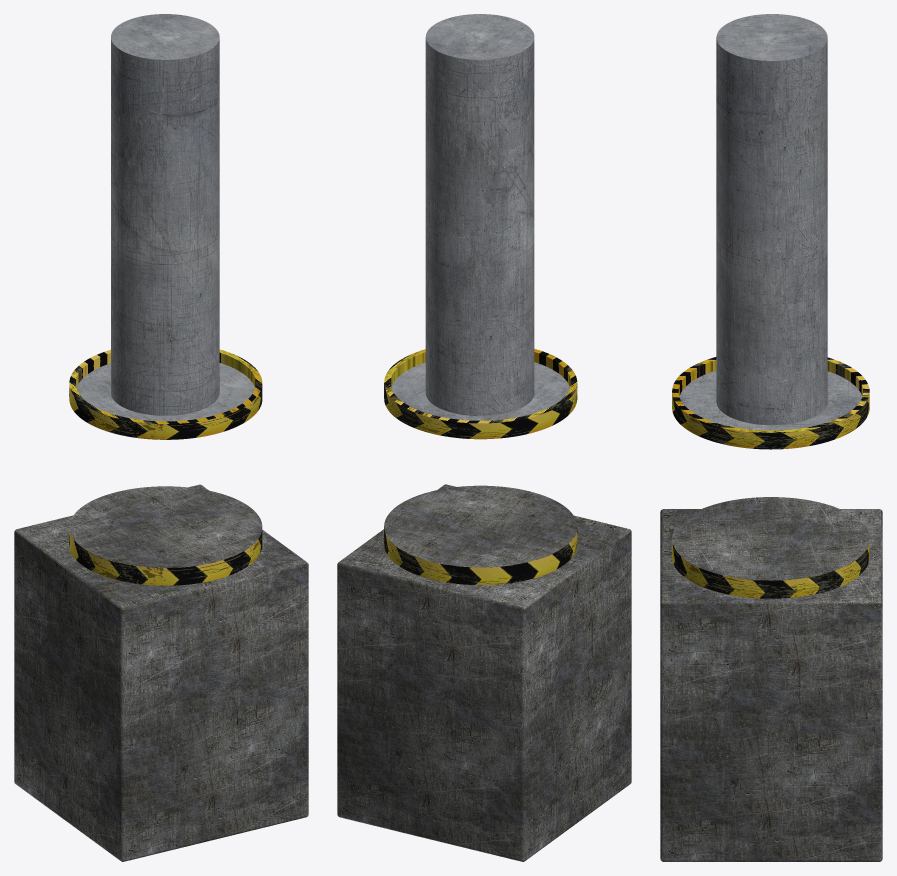
The model's file is simple_hydraulic_press.glb.
3 views of the same model, side by side, from view 1: azimuth 30°, elevation 25°; view 2: azimuth 150°, elevation 25°; view 3: azimuth 270°, elevation 25° (orthographic). The views are drawn at different scales.
Visible parts, largest first — view 1: Cube, Cylinder_2_2, Cylinder_1, Cylinder_1_2, Cylinder, Cylinder_2; view 2: Cube, Cylinder_2_2, Cylinder_1, Cylinder_1_2, Cylinder, Cylinder_2; view 3: Cube, Cylinder_2_2, Cylinder_1, Cylinder_1_2, Cylinder, Cylinder_2.
Part boxes in pixels (x1,y1,x2,y2): Cube: (14,484,308,861); Cylinder_2_2: (111,14,219,415); Cylinder_1: (69,486,262,567); Cylinder_1_2: (69,349,262,439); Cylinder: (69,529,262,585); Cylinder_2: (76,363,255,421); Cube: (337,484,631,861); Cylinder_2_2: (425,14,534,415); Cylinder_1: (384,485,577,567); Cylinder_1_2: (384,348,577,439); Cylinder: (384,527,577,584); Cylinder_2: (391,362,569,420); Cube: (660,509,882,861); Cylinder_2_2: (716,14,827,425); Cylinder_1: (672,497,869,580); Cylinder_1_2: (672,357,869,449); Cylinder: (672,540,869,598); Cylinder_2: (679,370,862,430).
Size of the model in its own units: 2 by 7.75 by 2.
Materials: 4 (4 with a texture image).
